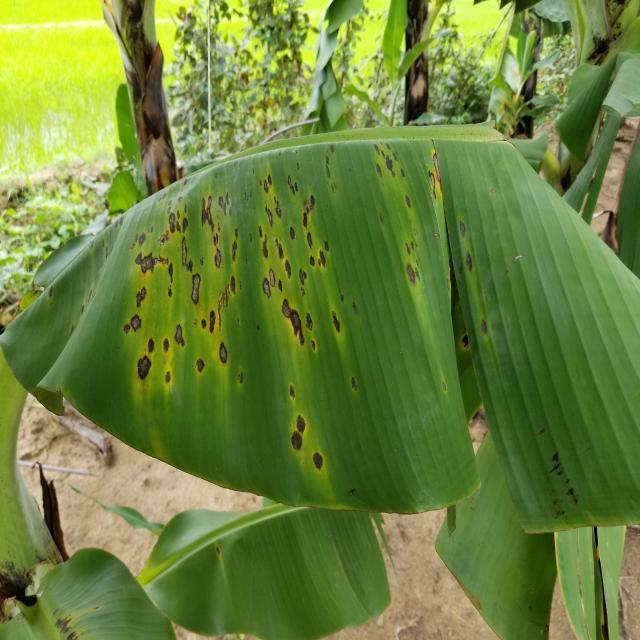Early_rust: (107, 128, 495, 496)
